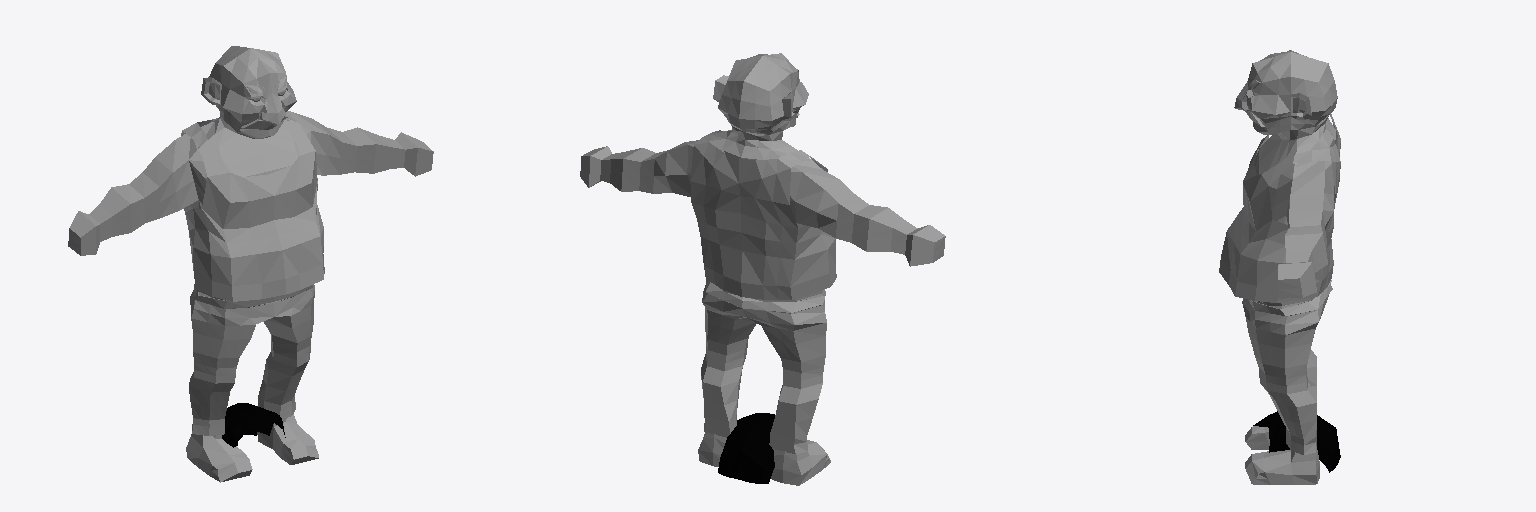
The model's file is Pirate.obj.
3 renders of one model, left to right at view 1: azimuth 30°, elevation 25°; view 2: azimuth 150°, elevation 25°; view 3: azimuth 270°, elevation 25°, orthographic.
Visible parts, largest first — view 1: Cube.002_Cube.000, Sphere.002; view 2: Cube.002_Cube.000, Sphere.002; view 3: Cube.002_Cube.000, Sphere.002.
Part boxes in pixels (left/top/right/bottom): Cube.002_Cube.000: left=68, top=46, right=433, bottom=482; Sphere.002: left=222, top=403, right=285, bottom=447; Cube.002_Cube.000: left=580, top=53, right=945, bottom=485; Sphere.002: left=718, top=413, right=774, bottom=483; Cube.002_Cube.000: left=1219, top=50, right=1340, bottom=484; Sphere.002: left=1253, top=411, right=1340, bottom=472.
Size of the model in its own units: 8.06 by 8.89 by 2.41.